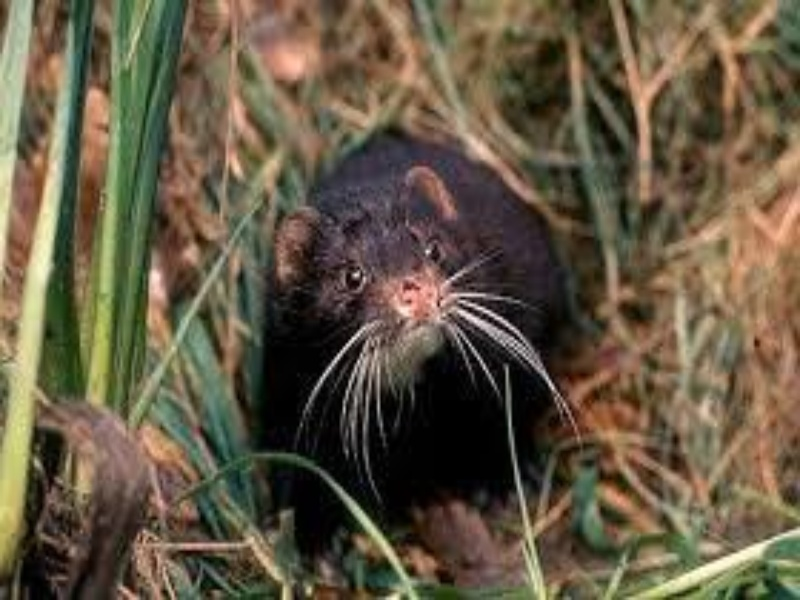minkish: (255, 126, 579, 544)
